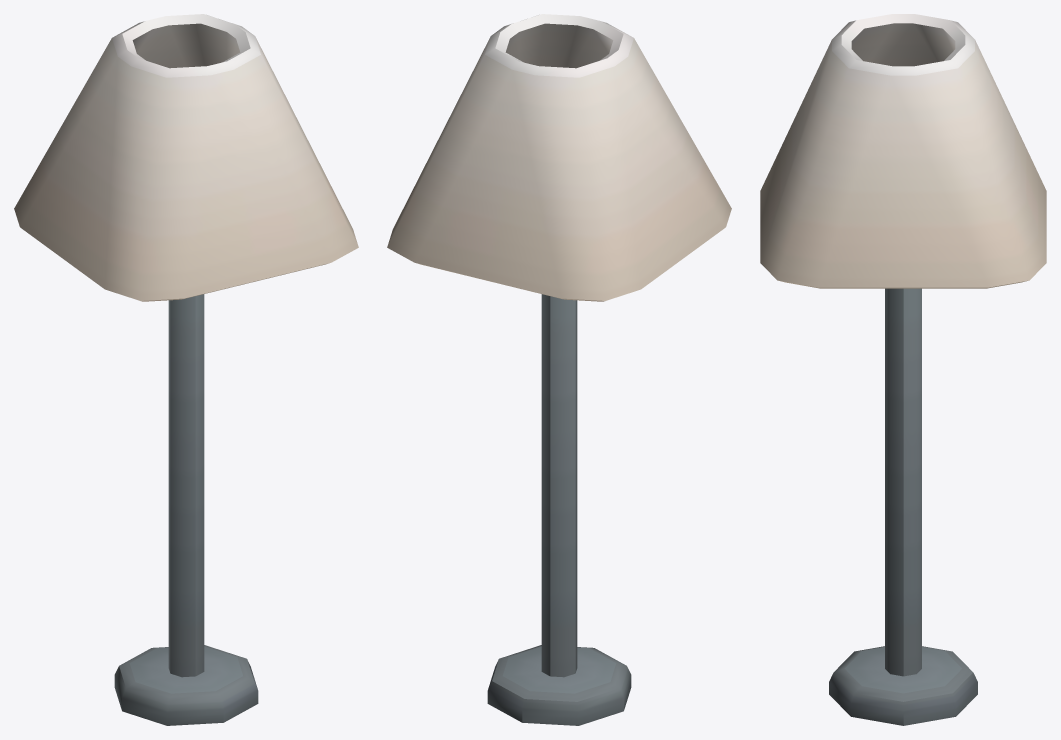
Rendered from lamp_standing.glb.
3 views of the same model, side by side, from view 1: azimuth 30°, elevation 25°; view 2: azimuth 150°, elevation 25°; view 3: azimuth 270°, elevation 25° (orthographic).
Parts seen in each view (by area): view 1: lamp_standing; view 2: lamp_standing; view 3: lamp_standing.
Boxes of the visible parts, left/top/right/bottom form: lamp_standing: left=14, top=14, right=358, bottom=725; lamp_standing: left=387, top=14, right=731, bottom=725; lamp_standing: left=760, top=14, right=1046, bottom=725.
Size of the model in its own units: 0.9999 by 2.52 by 0.9999.
Materials: 1 (1 with a texture image).
